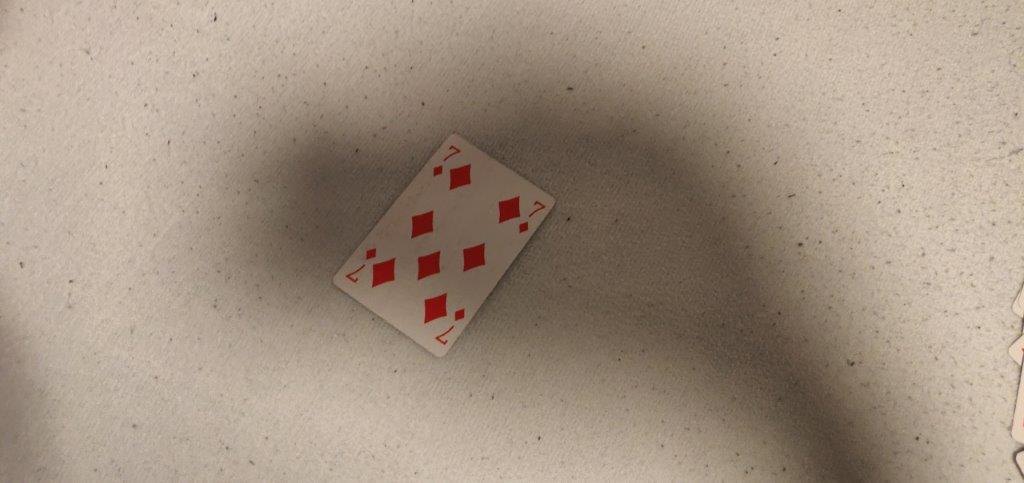7D: (516, 199, 550, 234), (429, 143, 461, 178)
